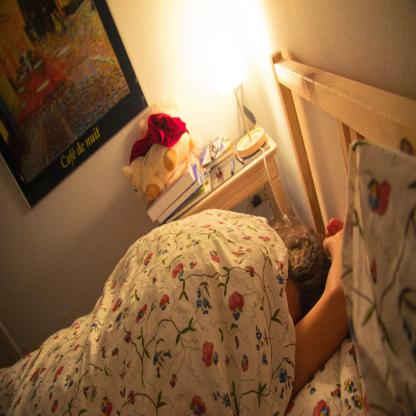book: (146, 156, 211, 226), (198, 134, 234, 170)
